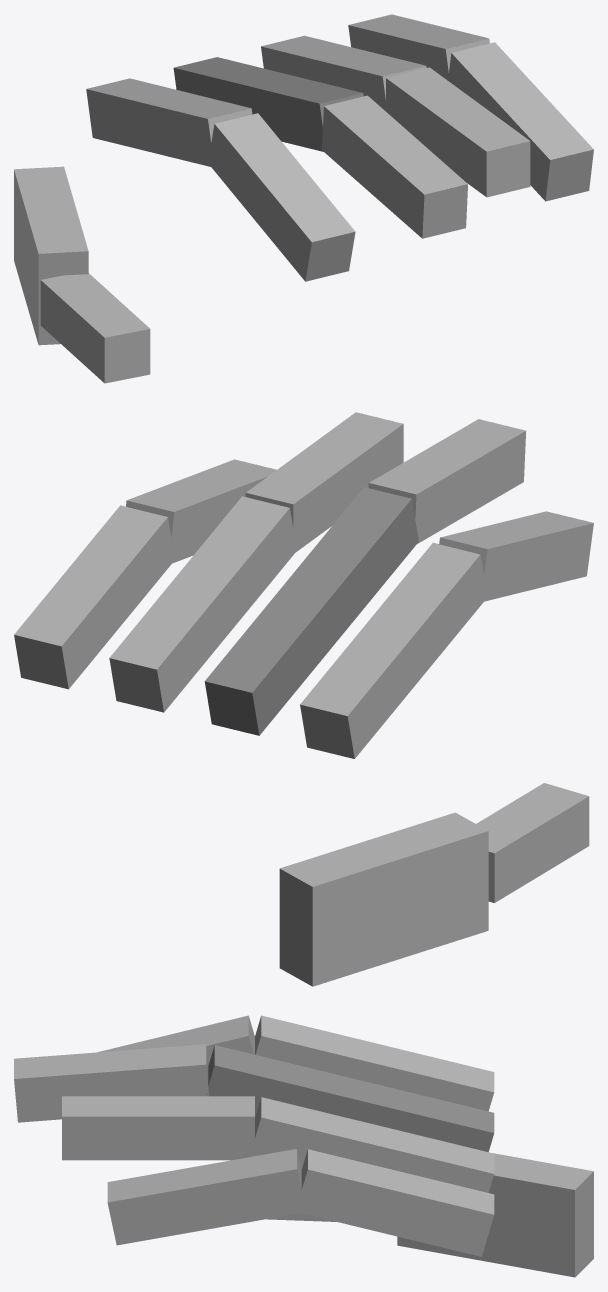
The model's file is powerfist_fingers_normal_left.obj.
3 renders of one model, top to bottom at view 1: azimuth 30°, elevation 25°; view 2: azimuth 150°, elevation 25°; view 3: azimuth 270°, elevation 25°, orthographic. The views are drawn at different scales.
Visible parts, largest first — view 1: index2, middlefinger2, ringfinger2, pinky2, index1, thumb2, thumb1, middlefinger1, ringfinger1, pinky1; view 2: thumb1, middlefinger1, ringfinger1, index1, pinky1, ringfinger2, middlefinger2, index2, thumb2, pinky2; view 3: pinky2, pinky1, ringfinger2, middlefinger1, thumb1, ringfinger1, middlefinger2, index1, index2.
Boxes of the visible parts, x1,y1,x2,y2 form: index2: (208,113,355,281); middlefinger2: (322,95,467,238); ringfinger2: (386,67,530,197); pinky2: (448,42,593,201); index1: (86,78,252,167); thumb2: (40,273,150,383); thumb1: (14,166,88,345); middlefinger1: (173,57,363,151); ringfinger1: (261,35,426,112); pinky1: (348,14,489,80); thumb1: (279,812,488,986); middlefinger1: (204,487,418,735); ringfinger1: (109,496,294,712); index1: (300,543,483,758); pinky1: (14,505,174,689); ringfinger2: (245,412,403,553); middlefinger2: (368,419,526,543); index2: (439,511,593,602); thumb2: (476,783,589,902); pinky2: (126,459,276,564); pinky2: (107,1149,305,1245); pinky1: (295,1149,494,1256); ringfinger2: (62,1096,254,1160); middlefinger1: (206,1045,494,1151); thumb1: (397,1153,593,1277); ringfinger1: (249,1097,494,1192); middlefinger2: (14,1044,208,1122); index1: (255,1015,494,1111); index2: (98,1015,254,1065).
Bounding box in the file's own units: 0.5827 × 0.3782 × 0.7512.
